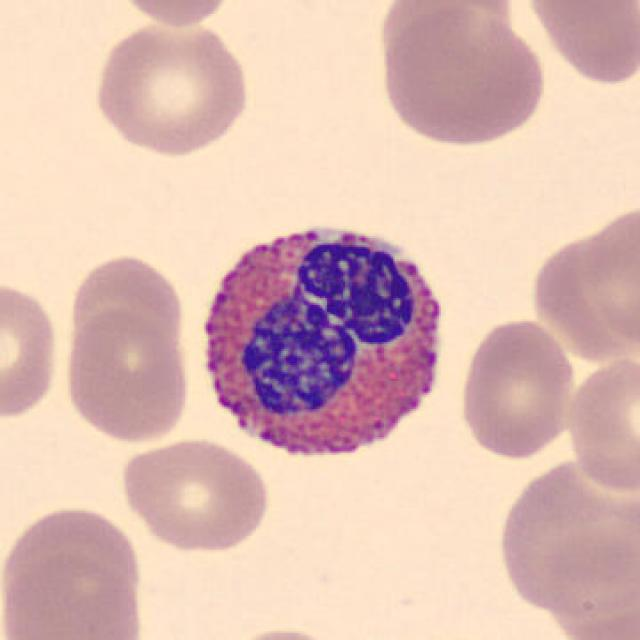Eosinophil: (187, 205, 460, 480)
RBC: (373, 3, 550, 150), (89, 16, 254, 159), (492, 466, 640, 615), (0, 498, 152, 628), (59, 303, 192, 446), (117, 434, 274, 555), (455, 314, 580, 462), (526, 201, 638, 365), (59, 250, 190, 368), (0, 550, 148, 640), (563, 350, 640, 495), (517, 0, 640, 90), (0, 273, 64, 425), (373, 0, 523, 58), (106, 0, 244, 30), (549, 597, 638, 640), (217, 624, 352, 640)
